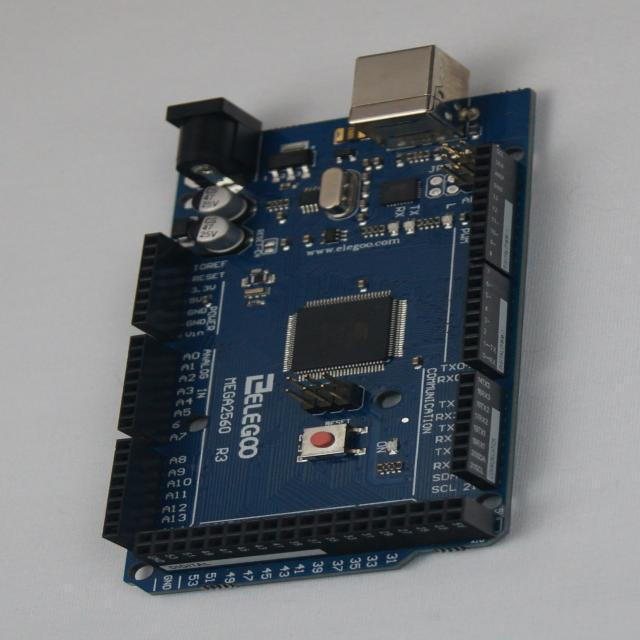Arduino Mega 2560 -Blue-: (104, 47, 534, 594)
